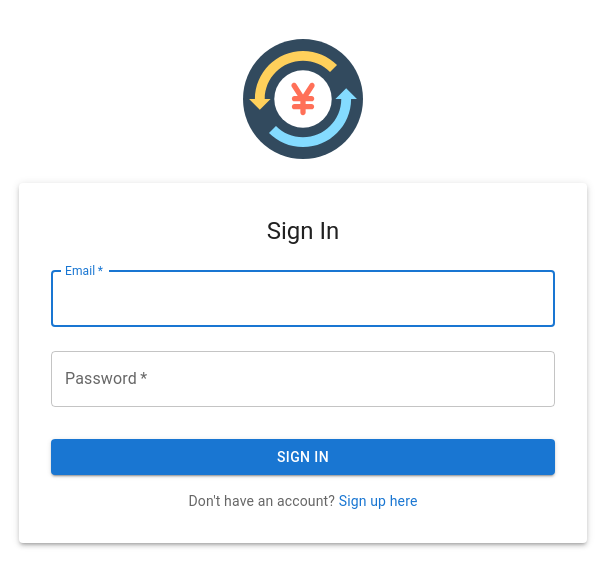
LoginPage › shows validation error for invalid email format
This screenshot has width=607, height=588.
Expected: the button "Sign In" is enabled, x1=51 y1=439 x2=555 y2=475
Type "notanemail" into the field labelled "Email *" at (303, 299), box x1=51 y1=271 x2=555 y2=327
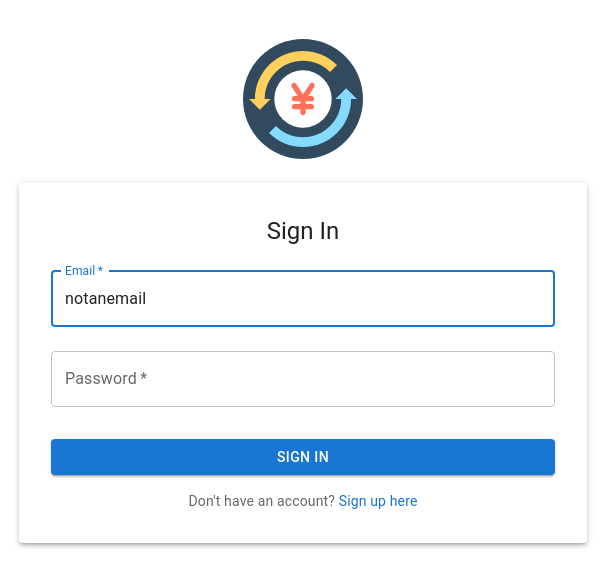
Click the button "Sign In" at (303, 457), box x1=51 y1=439 x2=555 y2=475
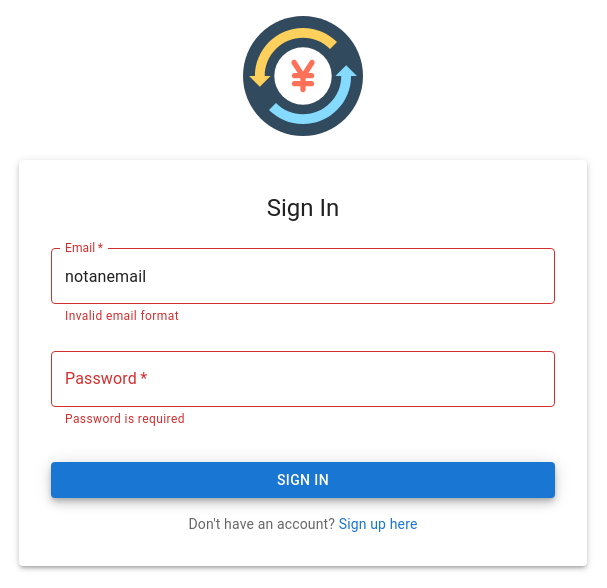
Expected: the text "Invalid email format" is shown, x1=65 y1=309 x2=179 y2=323
